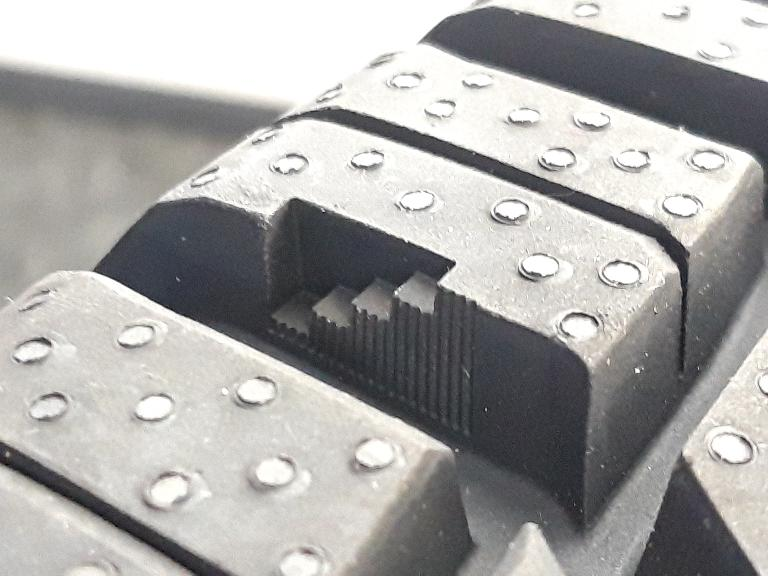temoin:100: (258, 195, 482, 438)
